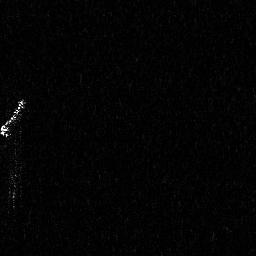ship: (1, 97, 30, 139)
